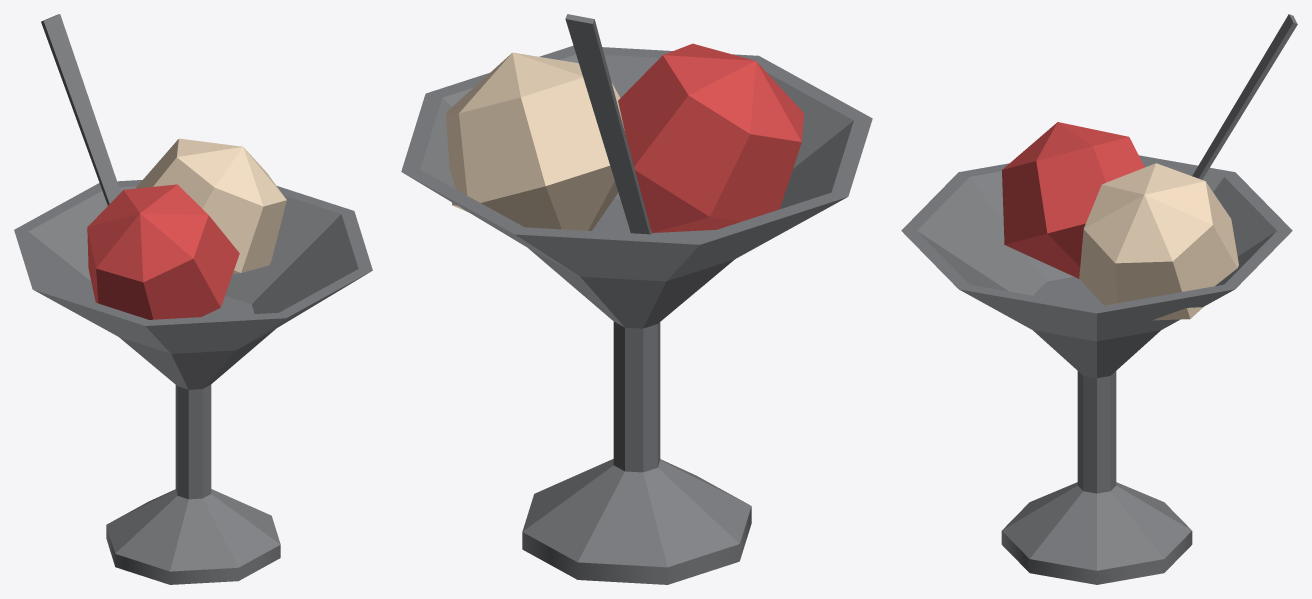
The model's file is SM_icecream.fbx.
The picture shows the model from 3 angles, left to right: view 1: azimuth 30°, elevation 25°; view 2: azimuth 150°, elevation 25°; view 3: azimuth 270°, elevation 25°; orthographic projection. The views are drawn at different scales.
Visible parts, largest first — view 1: Cylinder003; view 2: Cylinder003; view 3: Cylinder003.
Boxes of the visible parts, bbox=[...] form: Cylinder003: bbox=[14, 14, 372, 584]; Cylinder003: bbox=[401, 14, 872, 584]; Cylinder003: bbox=[901, 14, 1297, 584].
Bounding box in the file's own units: 8.84 × 8.95 × 12.49.
